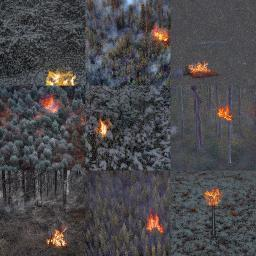Small fire: (183, 58, 228, 84), (41, 68, 81, 87), (147, 205, 167, 232), (43, 228, 74, 245), (147, 19, 169, 42), (97, 117, 118, 141), (205, 188, 226, 210), (215, 104, 232, 128), (42, 95, 59, 112)
